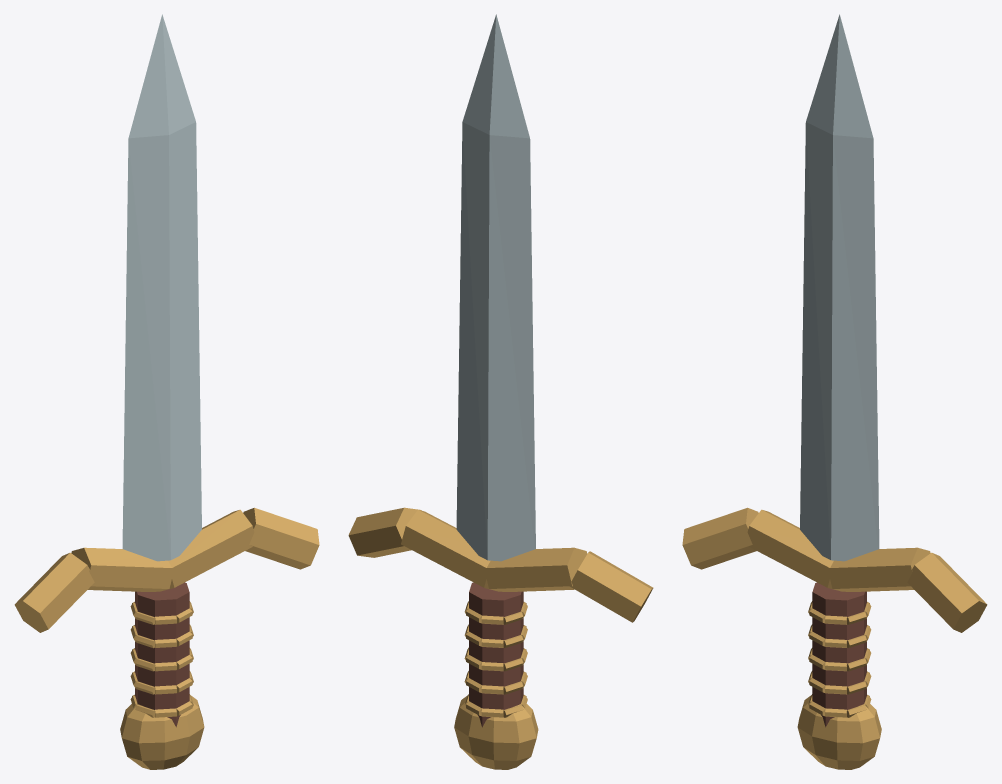
3 renders of one model, left to right at view 1: azimuth 30°, elevation 25°; view 2: azimuth 150°, elevation 25°; view 3: azimuth 330°, elevation 25°, orthographic.
Visible parts, largest first — view 1: longsword/body; view 2: longsword/body; view 3: longsword/body.
Boxes of the visible parts, x1,y1,x2,y2 form: longsword/body: [14, 14, 319, 769]; longsword/body: [348, 14, 653, 769]; longsword/body: [682, 14, 987, 769].
Size of the model in its own units: 0.5313 by 1.3 by 0.1041.
